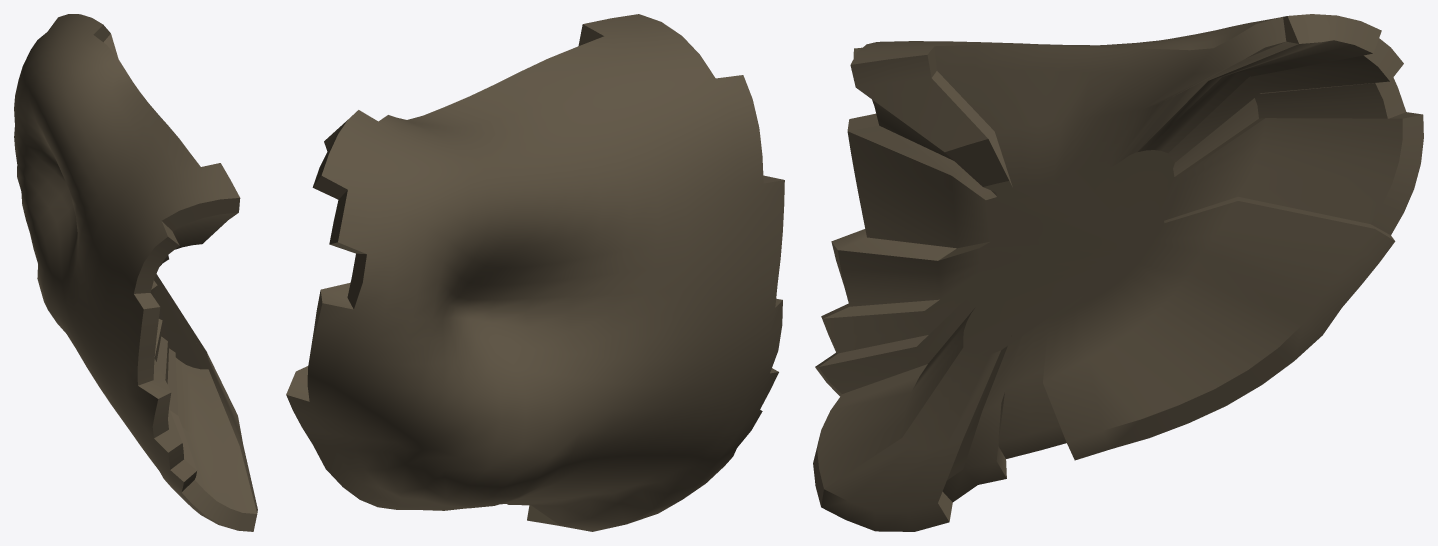
File: DestroyedAsteroid3.fbx
3 renders of one model, left to right at view 1: azimuth 30°, elevation 25°; view 2: azimuth 150°, elevation 25°; view 3: azimuth 270°, elevation 25°, orthographic. The views are drawn at different scales.
Parts seen in each view (by area): view 1: DestroyedAsteroid1; view 2: DestroyedAsteroid1; view 3: DestroyedAsteroid1.
Boxes of the visible parts, bbox=[...] form: DestroyedAsteroid1: bbox=[14, 14, 257, 531]; DestroyedAsteroid1: bbox=[286, 14, 784, 531]; DestroyedAsteroid1: bbox=[813, 14, 1423, 531].
Bounding box in the file's own units: 79.18 × 210 × 225.
